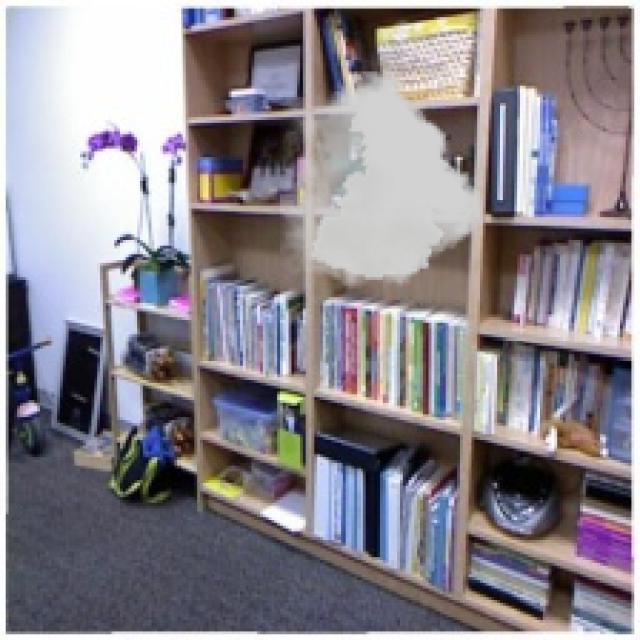Smoke: (280, 72, 483, 288)
